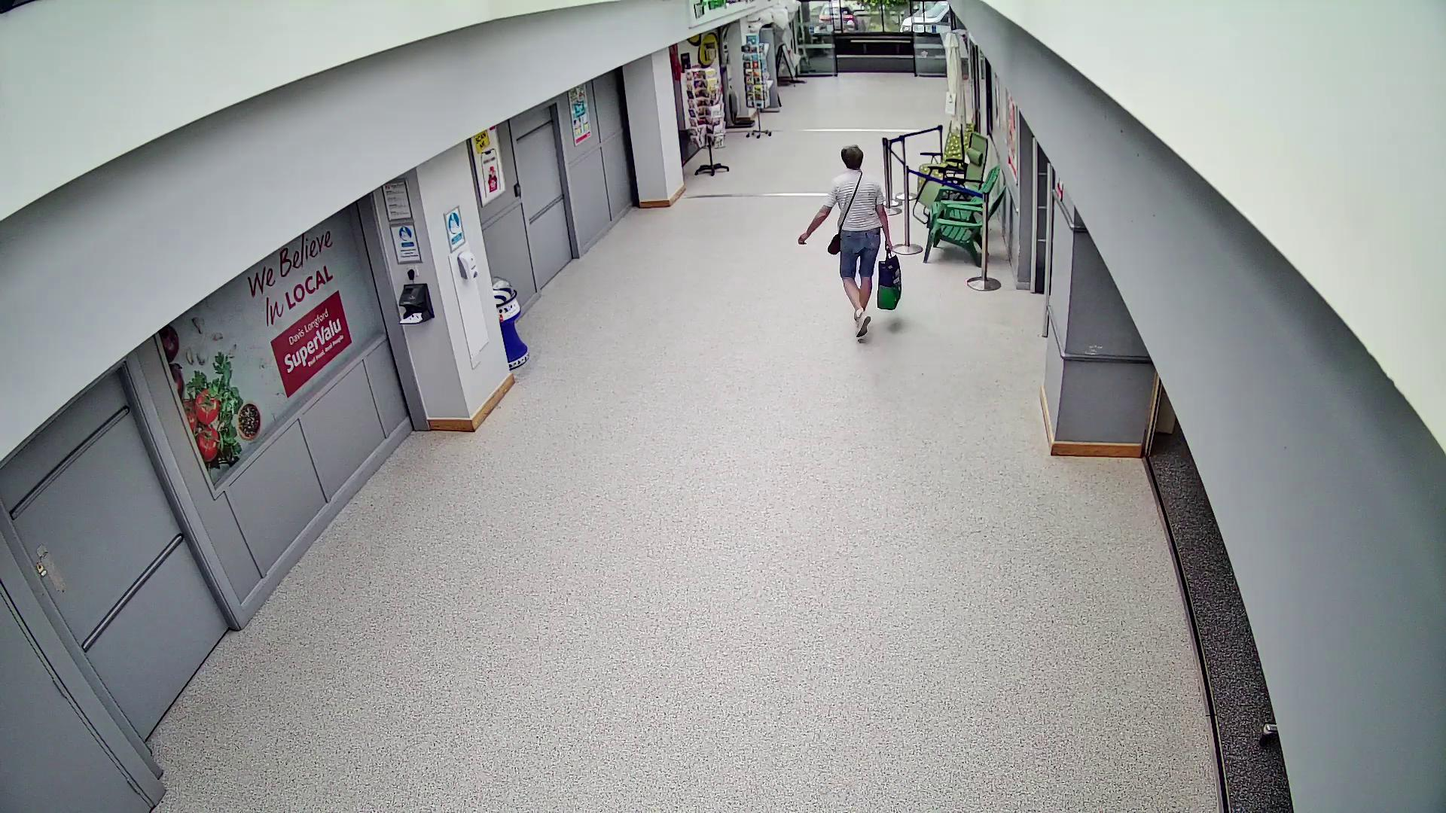backpack-or-handbag: (827, 232, 842, 256)
filled-shopping-bags: (878, 252, 903, 311)
person: (798, 145, 893, 338)
person-with-backpack-handbag-and-shopping-bag-s-: (799, 145, 903, 338)
